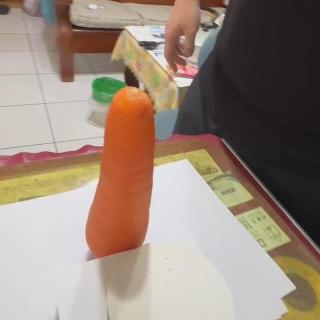carrot: (86, 87, 157, 256)
